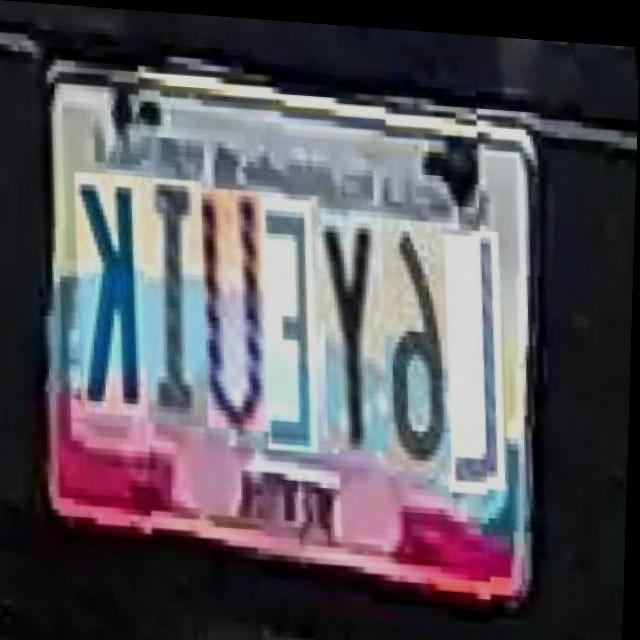6: (370, 212, 455, 467)
e: (253, 193, 321, 447)
i: (134, 174, 211, 424)
k: (68, 164, 151, 408)
l: (434, 227, 508, 487)
u: (187, 183, 270, 427)
y: (314, 202, 391, 446)
